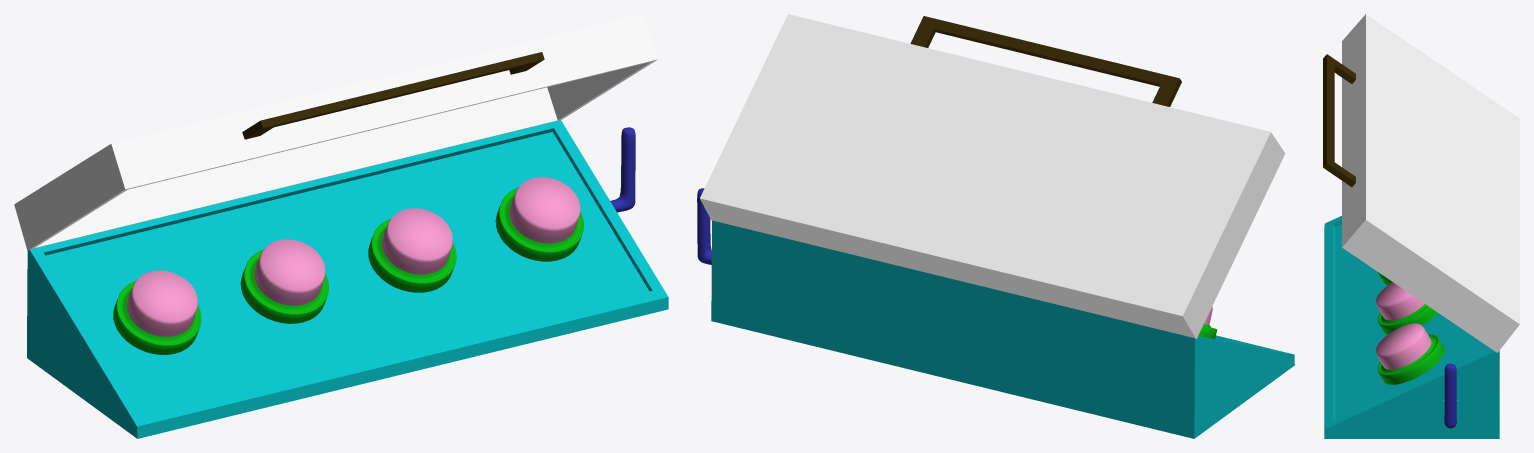
File: Button Box.fbx
The picture shows the model from 3 angles, left to right: view 1: azimuth 30°, elevation 25°; view 2: azimuth 150°, elevation 25°; view 3: azimuth 270°, elevation 25°; orthographic projection. The views are drawn at different scales.
Visible parts, largest first — view 1: boite_base, couvercle, push_002, push_004, push_001, push_003, base_001, base_003, base_002, base_004, levier; view 2: couvercle, boite_base, levier; view 3: couvercle, boite_base, push_004, base_004, push_003, levier, base_003.
Boxes of the visible parts, box(x1,y1,x2,y2) form: boite_base: box(27, 120, 668, 438); couvercle: box(14, 14, 657, 250); push_002: box(254, 239, 325, 305); push_004: box(509, 177, 580, 243); push_001: box(126, 270, 197, 336); push_003: box(381, 208, 452, 274); base_001: box(113, 281, 201, 354); base_003: box(368, 219, 456, 292); base_002: box(240, 250, 328, 323); base_004: box(495, 187, 583, 261); levier: box(610, 127, 635, 212); couvercle: box(700, 14, 1285, 339); boite_base: box(711, 220, 1294, 438); levier: box(697, 188, 711, 264); couvercle: box(1323, 14, 1519, 352); boite_base: box(1324, 216, 1499, 438); push_004: box(1376, 323, 1431, 369); base_004: box(1377, 334, 1444, 384); push_003: box(1376, 282, 1424, 320); levier: box(1444, 363, 1456, 428); base_003: box(1377, 304, 1437, 334).
Bounding box in the file's own units: 27.18 × 12.89 × 10.11.
